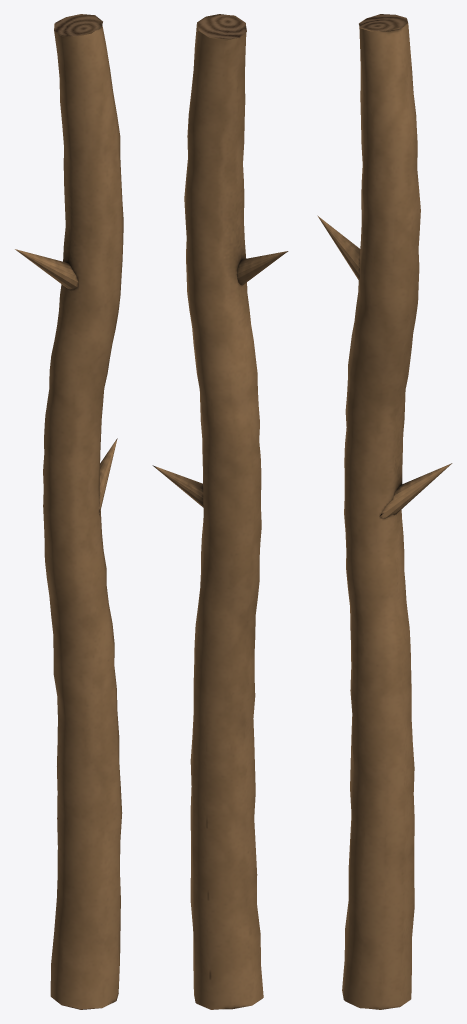
Rendered from arma_graveto.glb.
The picture shows the model from 3 angles, left to right: view 1: azimuth 30°, elevation 25°; view 2: azimuth 150°, elevation 25°; view 3: azimuth 330°, elevation 25°; orthographic projection.
Parts seen in each view (by area): view 1: arma_graveto; view 2: arma_graveto; view 3: arma_graveto.
Boxes of the visible parts, x1,y1,x2,y2 form: arma_graveto: (15,14,123,1009); arma_graveto: (152,14,288,1009); arma_graveto: (317,14,452,1009).
Bounding box in the file's own units: 0.1089 × 0.8439 × 0.062.
1 material, 1 textured.
